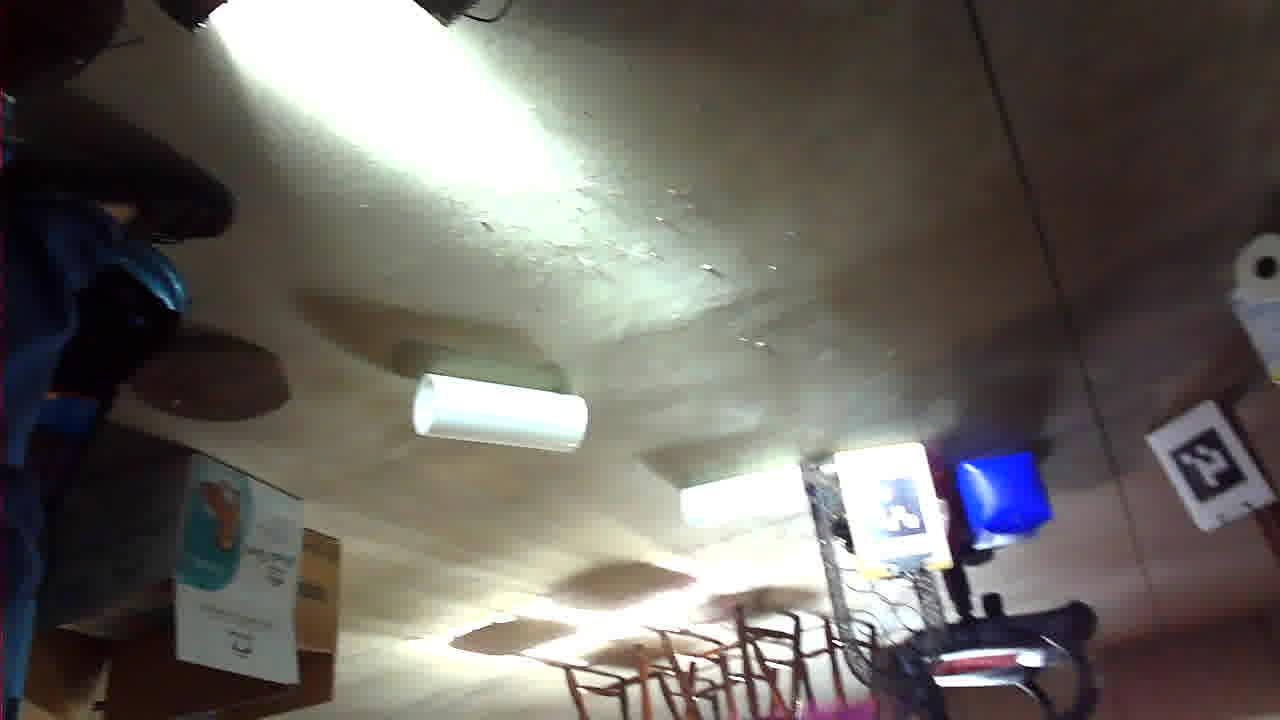coral: (693, 268, 866, 346), (471, 191, 599, 255)
